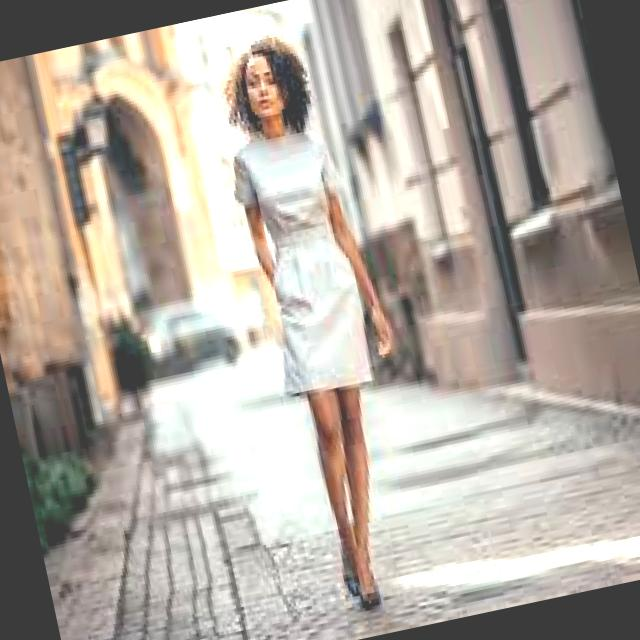dress: (232, 132, 371, 396)
